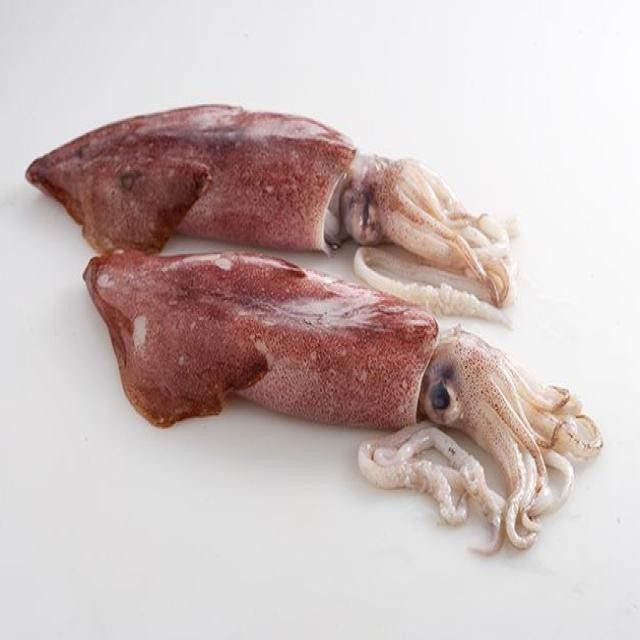SQUID: (55, 232, 620, 568), (10, 79, 543, 348)
